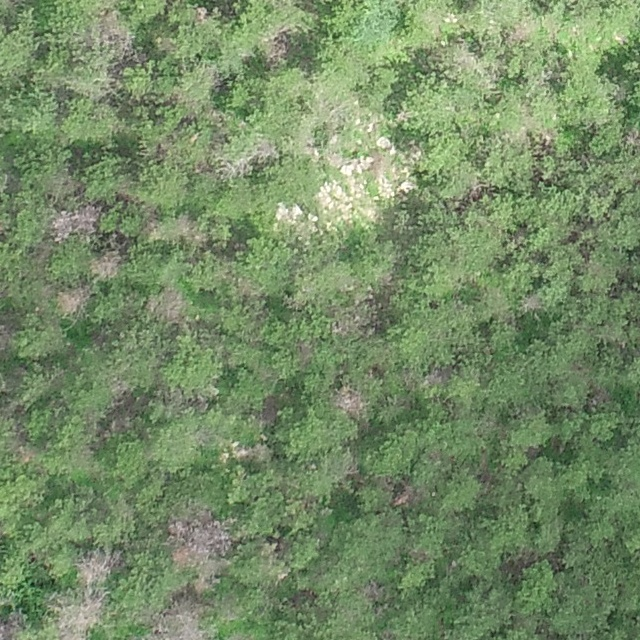unhealthy: (168, 509, 232, 570), (52, 588, 107, 639), (144, 599, 212, 640), (329, 298, 382, 338), (75, 547, 124, 584), (52, 205, 100, 239), (145, 285, 189, 322), (95, 10, 133, 49), (259, 26, 292, 66), (331, 383, 368, 416), (56, 284, 92, 315), (212, 156, 252, 180), (89, 249, 122, 278), (174, 212, 202, 243), (392, 481, 423, 509), (249, 138, 278, 166), (506, 19, 537, 44), (0, 611, 26, 640), (0, 314, 15, 358), (295, 337, 316, 367), (358, 579, 386, 601), (423, 367, 452, 387), (520, 292, 543, 312), (623, 126, 640, 150)
